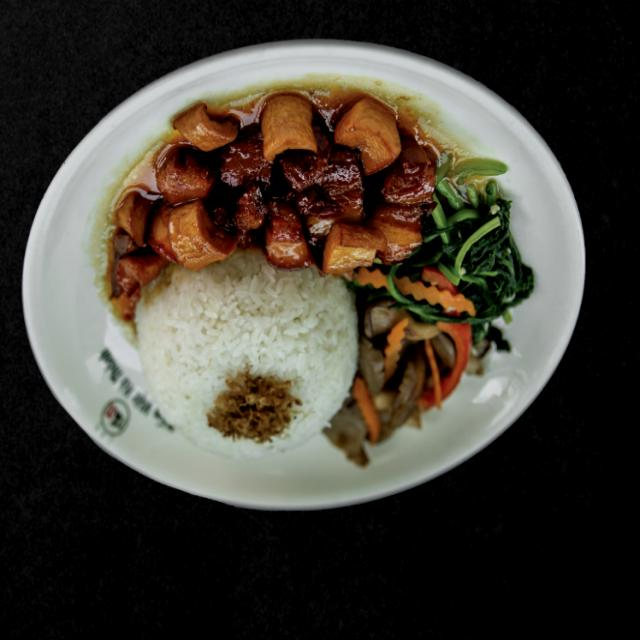kho tieu: (112, 97, 436, 320)
rau muong: (356, 157, 535, 392)
